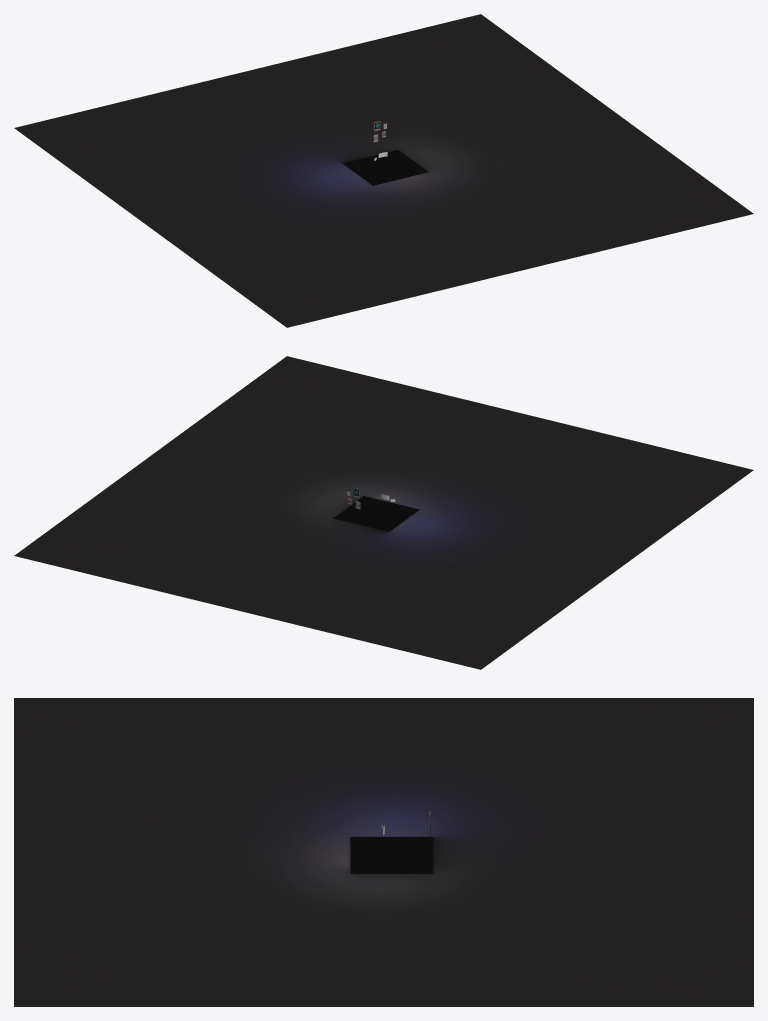
The model's file is Dark_First.glb.
3 views of the same model, one above another, from view 1: azimuth 30°, elevation 25°; view 2: azimuth 150°, elevation 25°; view 3: azimuth 270°, elevation 25° (orthographic). The views are drawn at different scales.
Visible parts, largest first — view 1: First_Baked; view 2: First_Baked; view 3: First_Baked.
Boxes of the visible parts, <box> form: First_Baked: <box>14,14,753,327</box>; First_Baked: <box>14,356,753,669</box>; First_Baked: <box>14,698,753,1006</box>.
Bounding box in the file's own units: 33.97 × 2.38 × 34.39.
3 materials, 1 textured.
